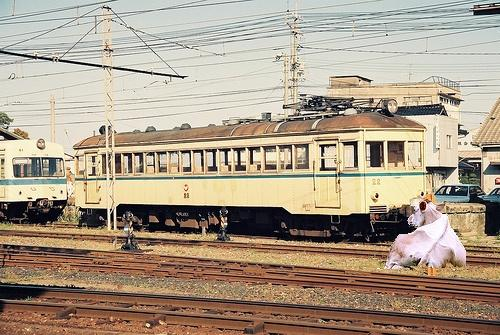tampered: (378, 199, 466, 269)
